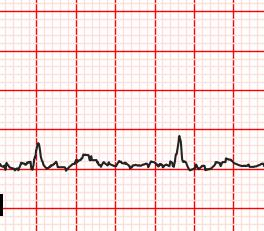Poor R Progression: (169, 133, 187, 168), (31, 138, 46, 168)
